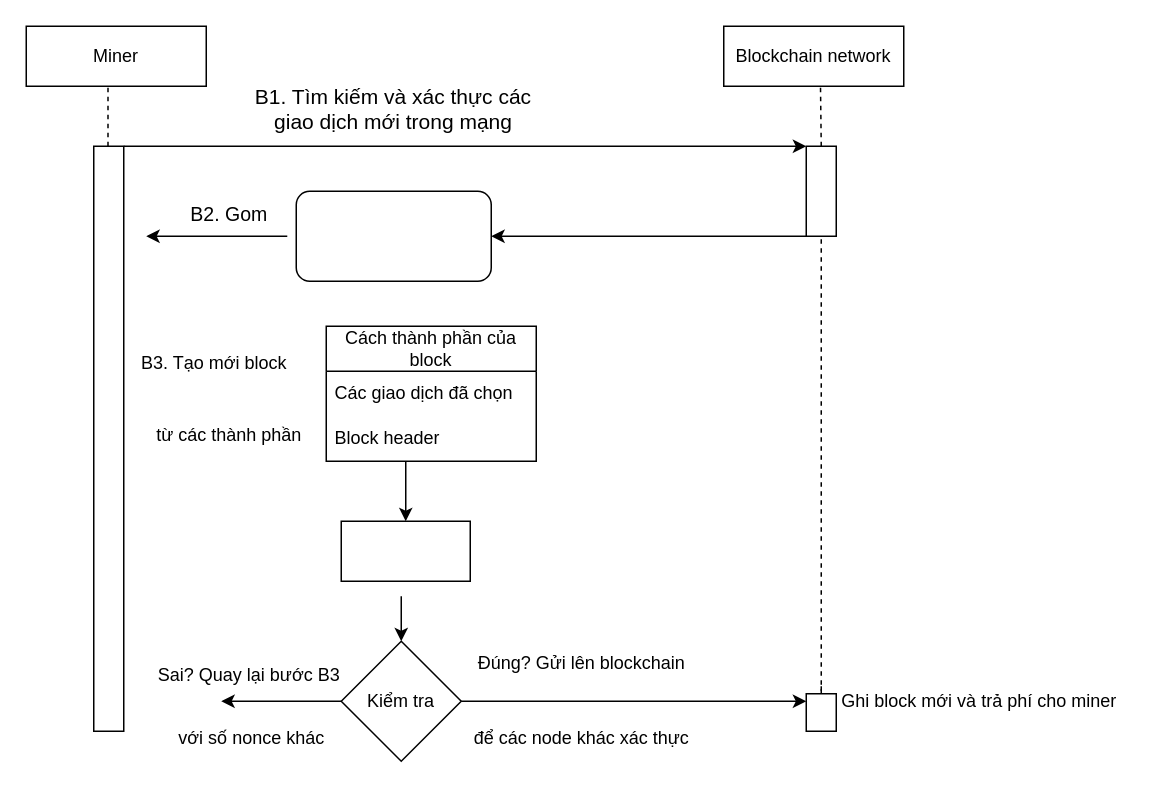
The diagram is 1163 pixels wide and 788 high, and some of its shapes have lost their labels. Each missing label, with the box of its shape:
Block: (340, 520, 470, 581)
Các giao dịch đã được xác thực: (295, 190, 491, 281)
